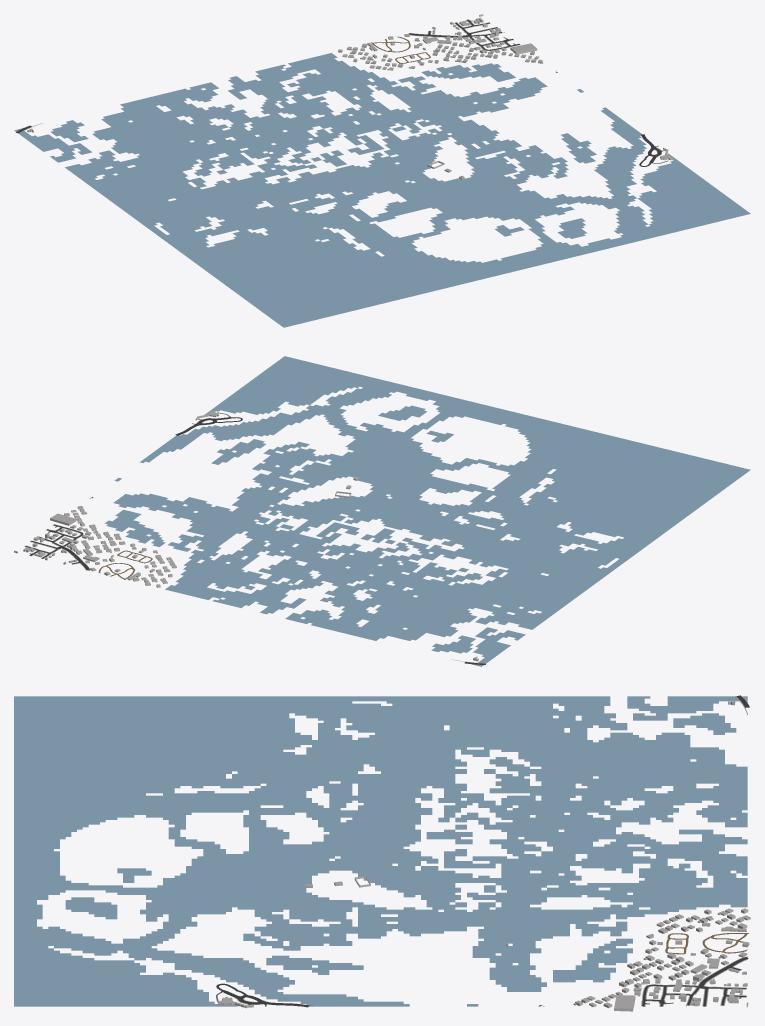
The model's file is chunk_6_7.glb.
3 views of the same model, one above another, from view 1: azimuth 30°, elevation 25°; view 2: azimuth 150°, elevation 25°; view 3: azimuth 270°, elevation 25° (orthographic). The views are drawn at different scales.
Parts seen in each view (by area): view 1: Water_6_7, Filler_6_7, Roads_6_7, Buildings_6_7, RoadSides_6_7; view 2: Water_6_7, Filler_6_7, Roads_6_7, Buildings_6_7, RoadSides_6_7; view 3: Water_6_7, Filler_6_7, Roads_6_7, Buildings_6_7, RoadSides_6_7.
Boxes of the visible parts, x1,y1,x2,y2 form: Water_6_7: [14, 53, 750, 327]; Filler_6_7: [338, 31, 543, 70]; Roads_6_7: [16, 19, 668, 166]; Buildings_6_7: [27, 14, 673, 179]; RoadSides_6_7: [16, 19, 662, 157]; Water_6_7: [105, 356, 750, 666]; Filler_6_7: [45, 506, 176, 587]; Roads_6_7: [25, 412, 485, 664]; Buildings_6_7: [14, 410, 478, 661]; RoadSides_6_7: [24, 418, 485, 665]; Water_6_7: [14, 696, 747, 1006]; Filler_6_7: [573, 908, 750, 1011]; Roads_6_7: [216, 695, 749, 1007]; Buildings_6_7: [217, 700, 748, 1008]; RoadSides_6_7: [235, 696, 747, 1006].
Bounding box in the file's own units: 2088 × 16.48 × 2057.
